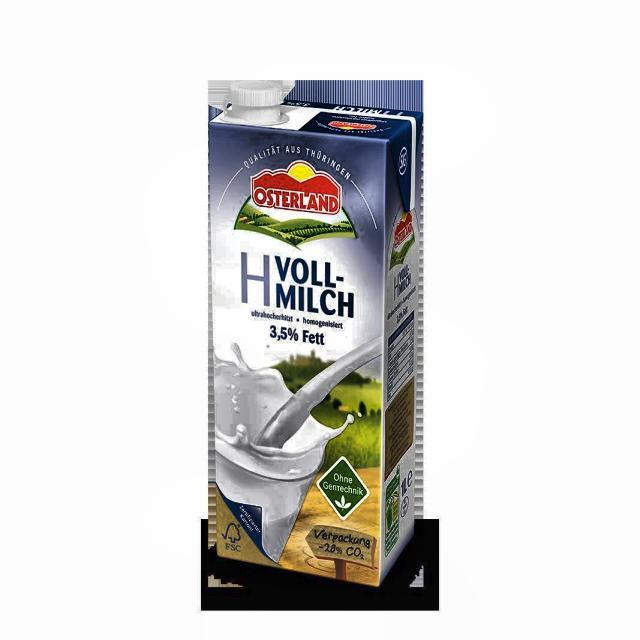cardboard: (206, 81, 425, 588)
